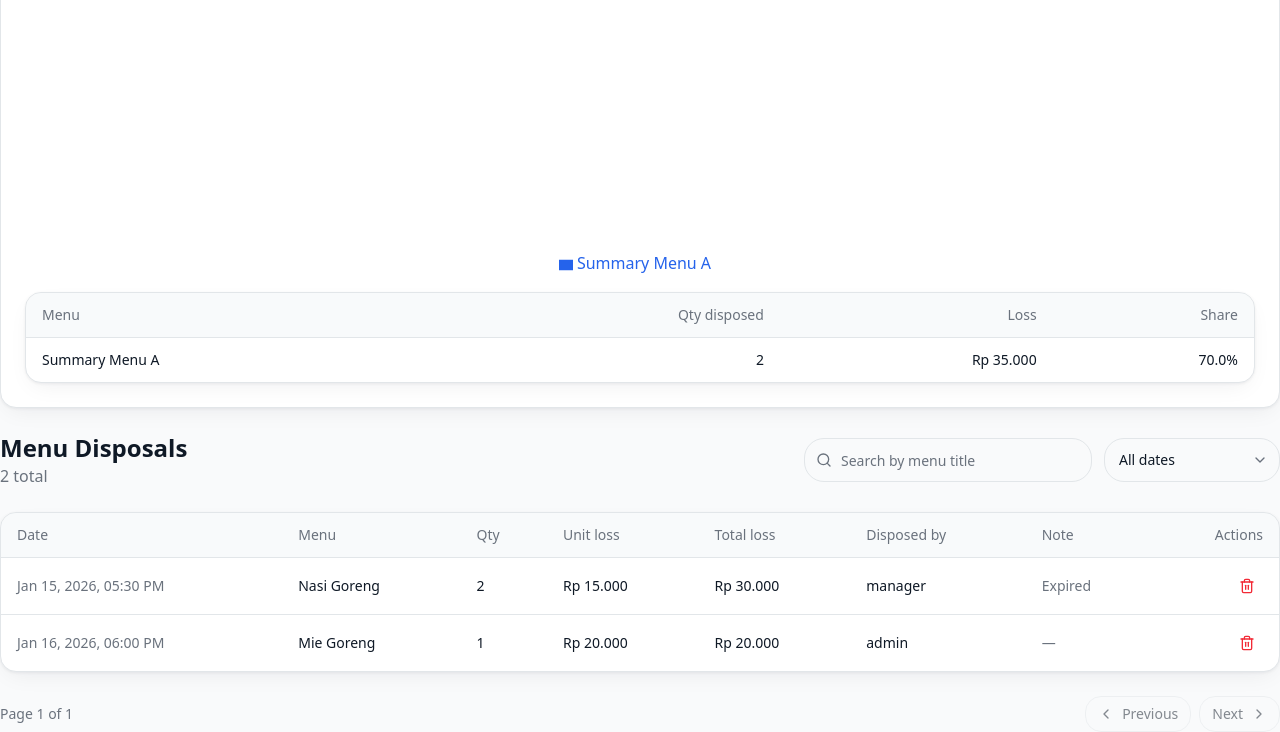
Test case: AdminMenuDisposalsPage › shows delete confirmation and removes disposal on confirm
(page scrolled)
expect the text "Nasi Goreng" is shown: met, box [282, 558, 460, 614]
Click the button with test id "menu-disposal-delete-disposal-1".
click(1247, 586)  # box [1231, 570, 1263, 602]
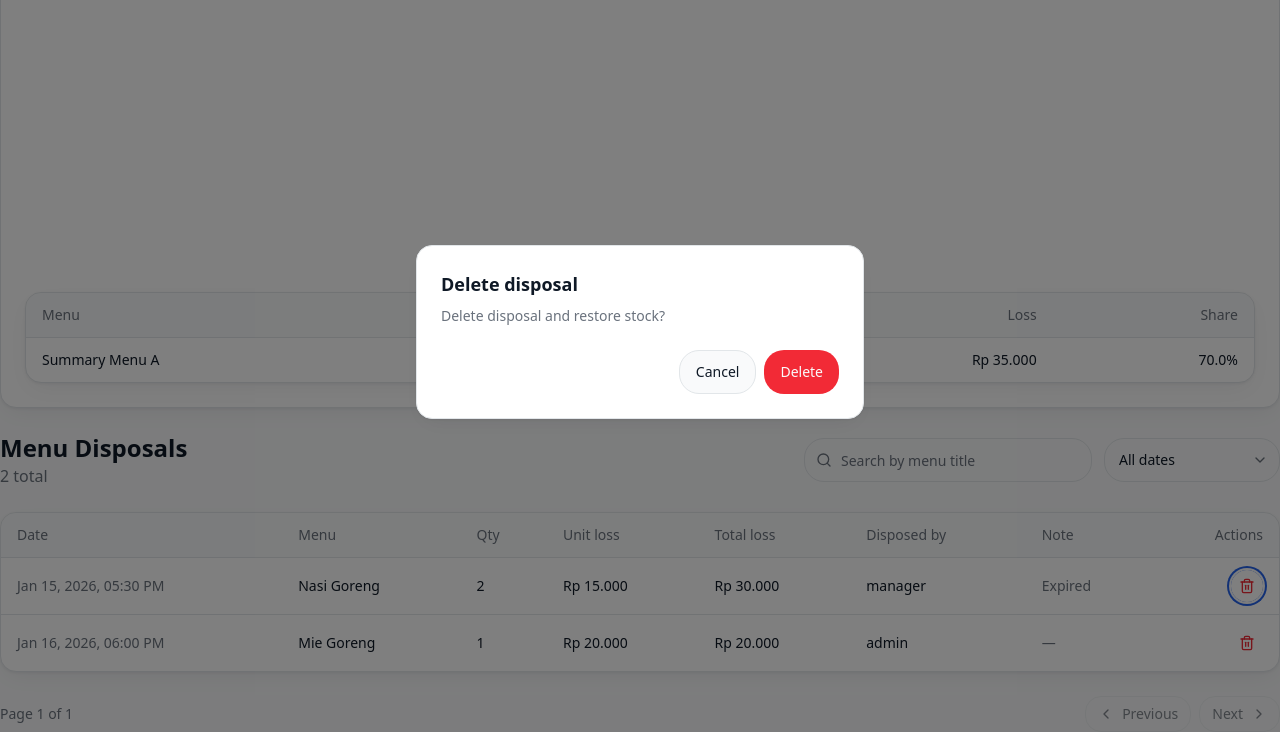
expect the text "Delete disposal and restore stock?" is shown: met, box [441, 306, 665, 325]
Click the button with test id "menu-disposal-delete-confirm".
click(802, 372)  # box [764, 350, 839, 394]
(page scrolled)
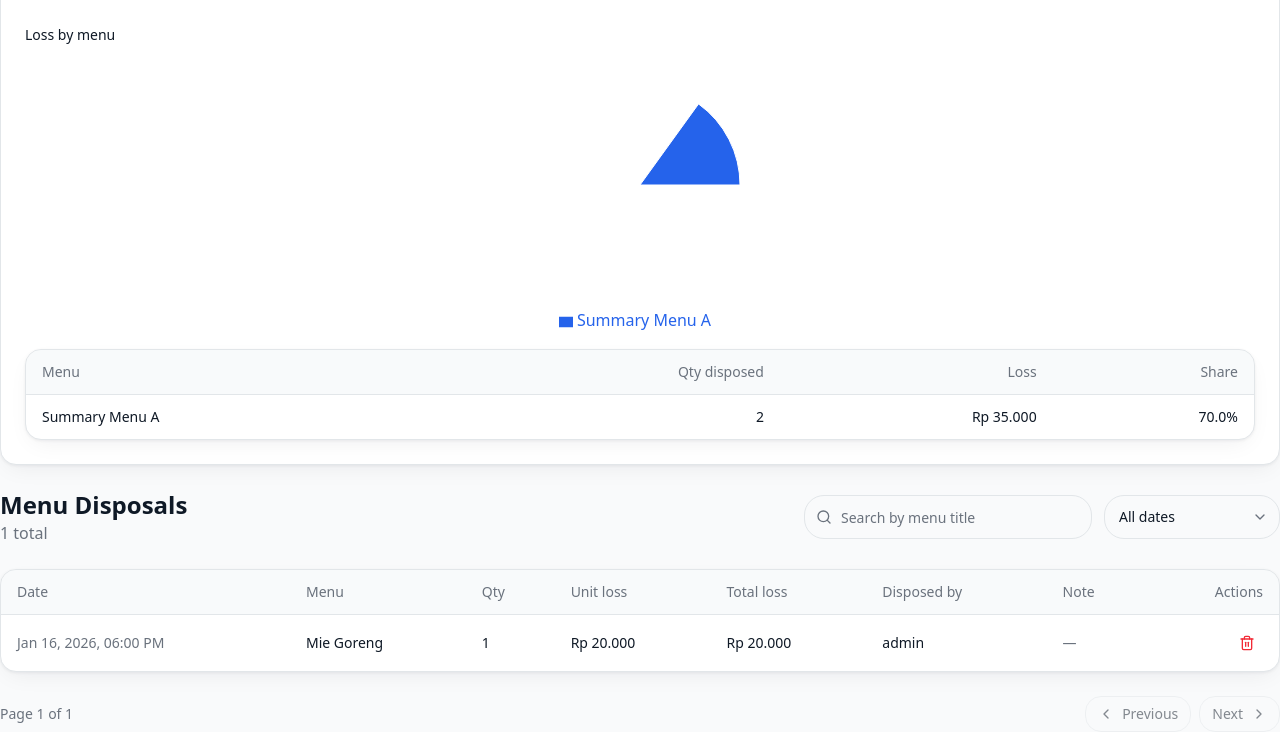
expect the row with test id "menu-disposal-row-disposal-1" is gone: met
expect the text "1 total" is shown: met, box [0, 522, 48, 544]
